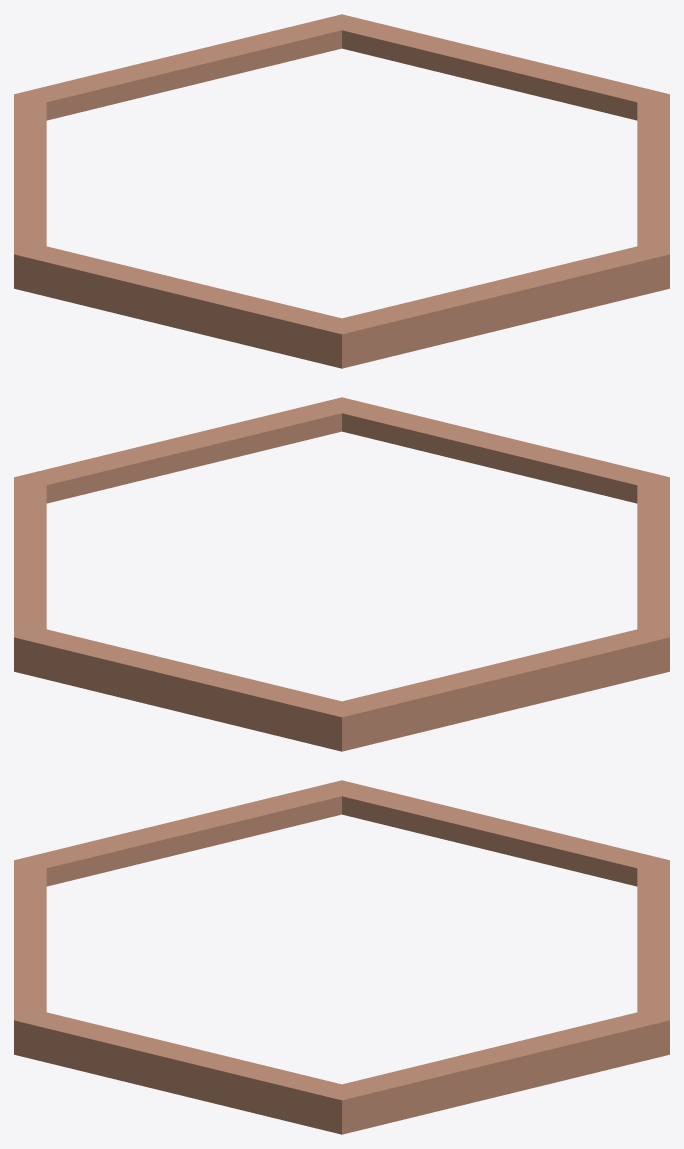
The model's file is hex_editor.fbx.
3 renders of one model, top to bottom at view 1: azimuth 30°, elevation 25°; view 2: azimuth 150°, elevation 25°; view 3: azimuth 270°, elevation 25°, orthographic.
Parts seen in each view (by area): view 1: HexEditor; view 2: HexEditor; view 3: HexEditor.
Boxes of the visible parts, x1=… form: HexEditor: x1=14, y1=14, x2=669, y2=368; HexEditor: x1=14, y1=397, x2=669, y2=751; HexEditor: x1=14, y1=780, x2=669, y2=1134.
Size of the model in its own units: 2 by 0.1 by 1.73.
